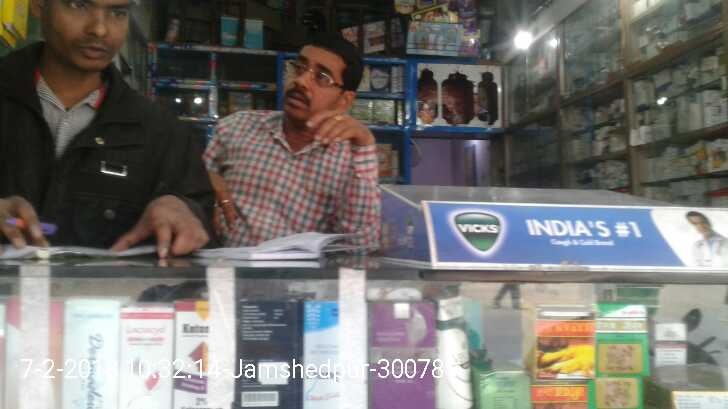reject: (417, 78, 497, 134)
